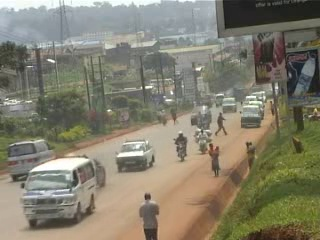Car: (85, 156, 106, 189), (188, 103, 215, 128)
Motorcycle: (171, 130, 190, 164), (194, 128, 213, 154), (157, 110, 169, 128), (201, 112, 210, 133), (194, 111, 202, 130)
